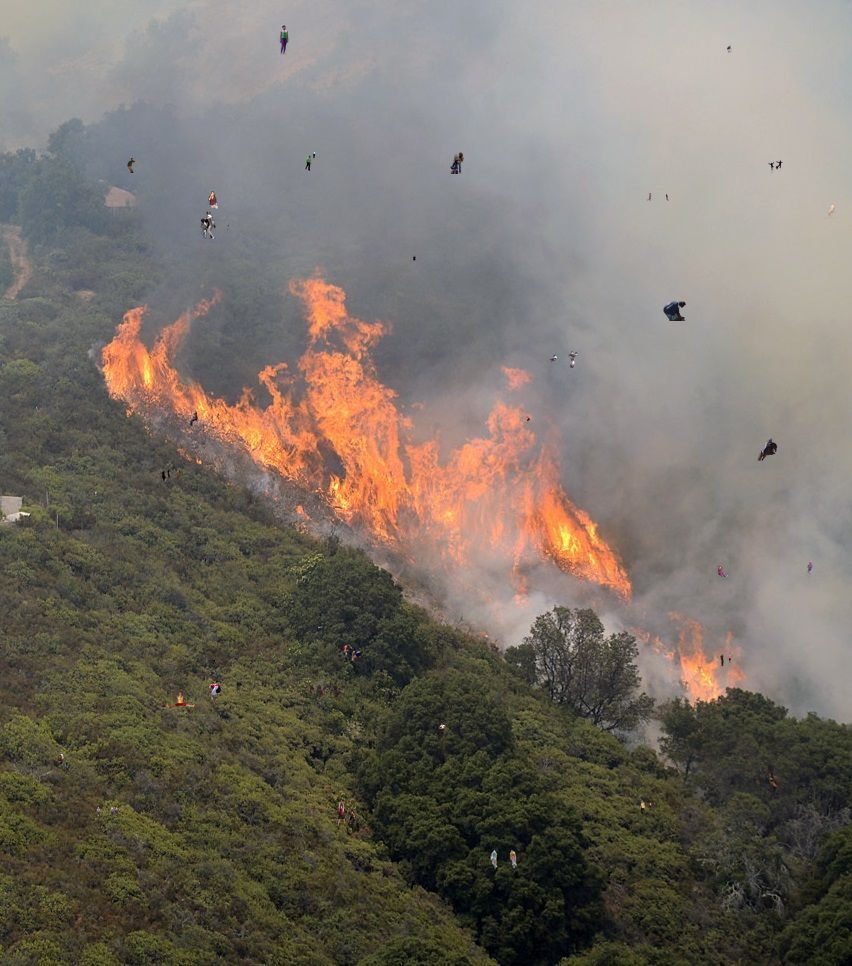Human: (490, 850, 517, 870), (549, 351, 578, 369), (336, 801, 356, 827), (290, 151, 316, 171), (166, 691, 196, 708), (757, 438, 778, 461), (310, 685, 347, 698), (663, 301, 687, 321), (338, 644, 363, 662), (200, 211, 216, 239), (206, 681, 222, 709), (638, 800, 661, 817), (158, 469, 181, 484), (821, 204, 844, 219), (91, 806, 118, 818), (450, 152, 464, 174), (279, 25, 289, 55), (188, 411, 206, 426), (716, 653, 733, 667), (768, 160, 783, 174), (208, 191, 218, 209), (127, 158, 139, 173), (647, 193, 669, 201), (805, 561, 813, 578), (44, 907, 55, 919), (56, 752, 64, 767), (212, 658, 226, 666), (718, 566, 728, 577), (65, 760, 70, 777), (437, 723, 446, 731), (88, 491, 97, 498), (525, 415, 530, 424), (727, 45, 732, 53), (413, 255, 416, 262), (227, 223, 230, 230), (318, 625, 323, 629), (304, 792, 309, 796), (198, 503, 202, 508), (846, 871, 849, 877), (396, 895, 402, 898)
